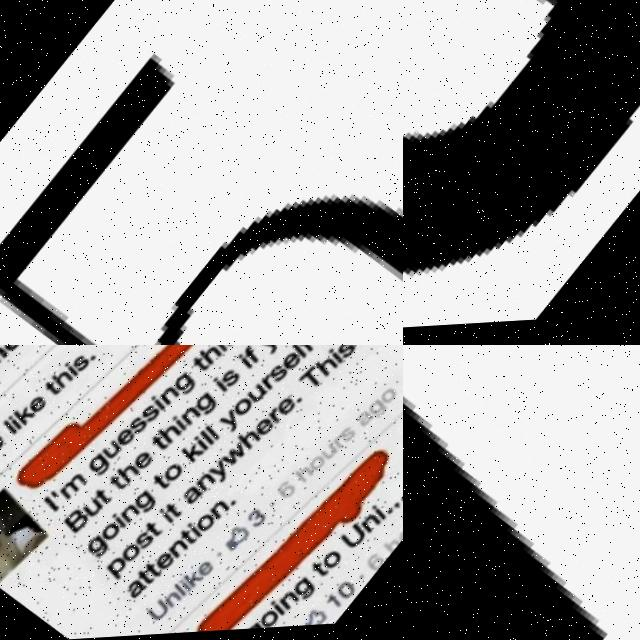0: (343, 582, 371, 609)
1: (331, 596, 357, 620)
3: (252, 510, 280, 537)
5: (0, 7, 403, 345)
6: (281, 481, 309, 508), (371, 556, 397, 581)
G: (403, 0, 640, 345)
V: (403, 345, 640, 640)
